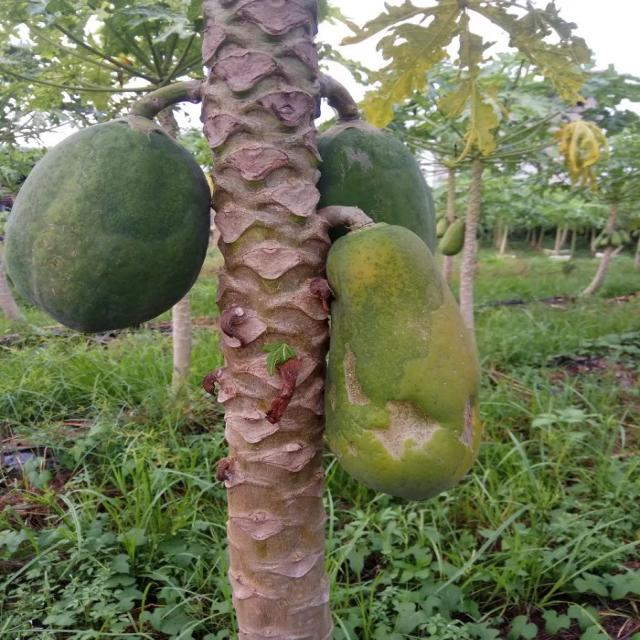Pepaya rippen: (318, 223, 497, 496)
Pepaya unrippen: (3, 107, 211, 336)
